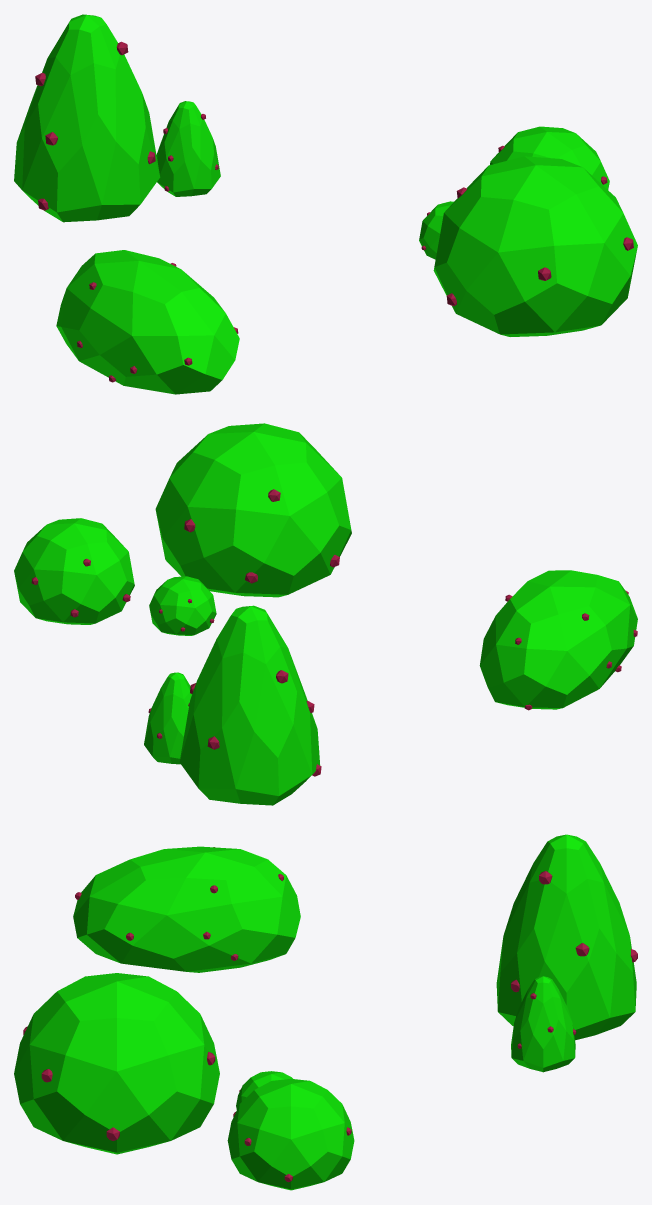
The model's file is Berry Bush 3 Types.fbx.
3 renders of one model, top to bottom at view 1: azimuth 30°, elevation 25°; view 2: azimuth 150°, elevation 25°; view 3: azimuth 270°, elevation 25°, orthographic. The views are drawn at different scales.
Parts seen in each view (by area): view 1: Big Normal Bush, Big Tall Bush], Long Bush, Smol Tall Bush, bUSH, Smol Normal Bush; view 2: Big Normal Bush, Big Tall Bush], Long Bush, bUSH, Smol Normal Bush, Smol Tall Bush; view 3: Big Normal Bush, Long Bush, Big Tall Bush], bUSH, Smol Tall Bush, Smol Normal Bush.
Part boxes in pixels (left/top/right/bottom): Big Normal Bush: left=433, top=156, right=637, bottom=336; Big Tall Bush]: left=14, top=14, right=160, bottom=222; Long Bush: left=56, top=250, right=239, bottom=394; Smol Tall Bush: left=156, top=101, right=220, bottom=196; bUSH: left=490, top=126, right=609, bottom=189; Smol Normal Bush: left=419, top=201, right=453, bottom=259; Big Normal Bush: left=155, top=423, right=351, bottom=597; Big Tall Bush]: left=179, top=605, right=321, bottom=805; Long Bush: left=479, top=570, right=637, bottom=710; bUSH: left=14, top=518, right=134, bottom=624; Smol Normal Bush: left=149, top=576, right=216, bottom=635; Smol Tall Bush: left=144, top=672, right=191, bottom=764; Big Normal Bush: left=14, top=973, right=219, bottom=1154; Long Bush: left=73, top=846, right=300, bottom=972; Big Tall Bush]: left=496, top=834, right=637, bottom=1040; bUSH: left=227, top=1078, right=354, bottom=1190; Smol Tall Bush: left=511, top=976, right=576, bottom=1072; Smol Normal Bush: left=236, top=1071, right=292, bottom=1109.
Bounding box in the file's own units: 859 × 272 × 818.
